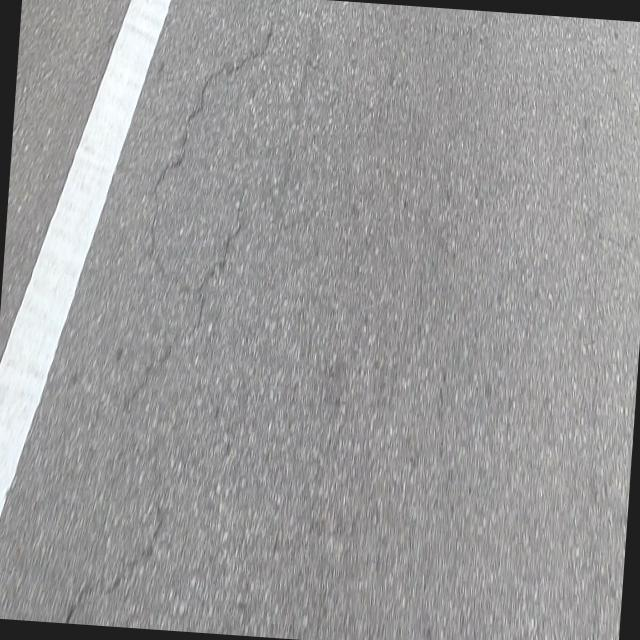Retak-Memanjang: (125, 215, 247, 408), (151, 26, 280, 198), (67, 516, 166, 623)
